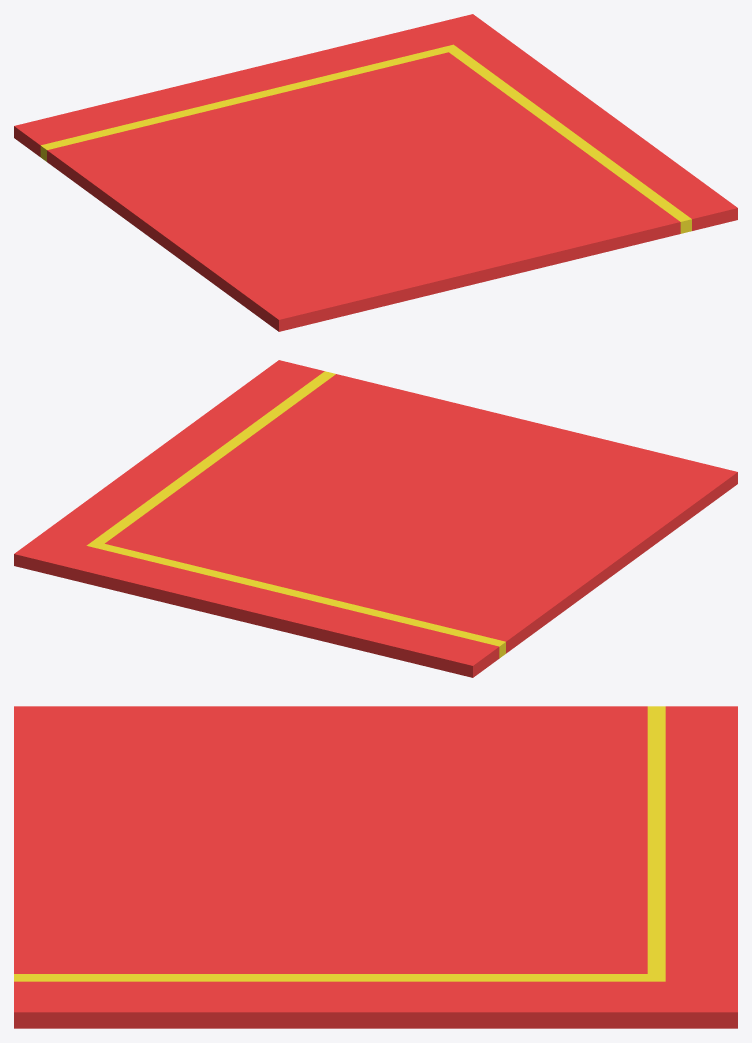
File: yasiki_capet2.obj
The picture shows the model from 3 angles, top to bottom: view 1: azimuth 30°, elevation 25°; view 2: azimuth 150°, elevation 25°; view 3: azimuth 270°, elevation 25°; orthographic projection. The views are drawn at different scales.
Size of the model in its own units: 4 by 0.1 by 4.
Materials: 1 (1 with a texture image).
